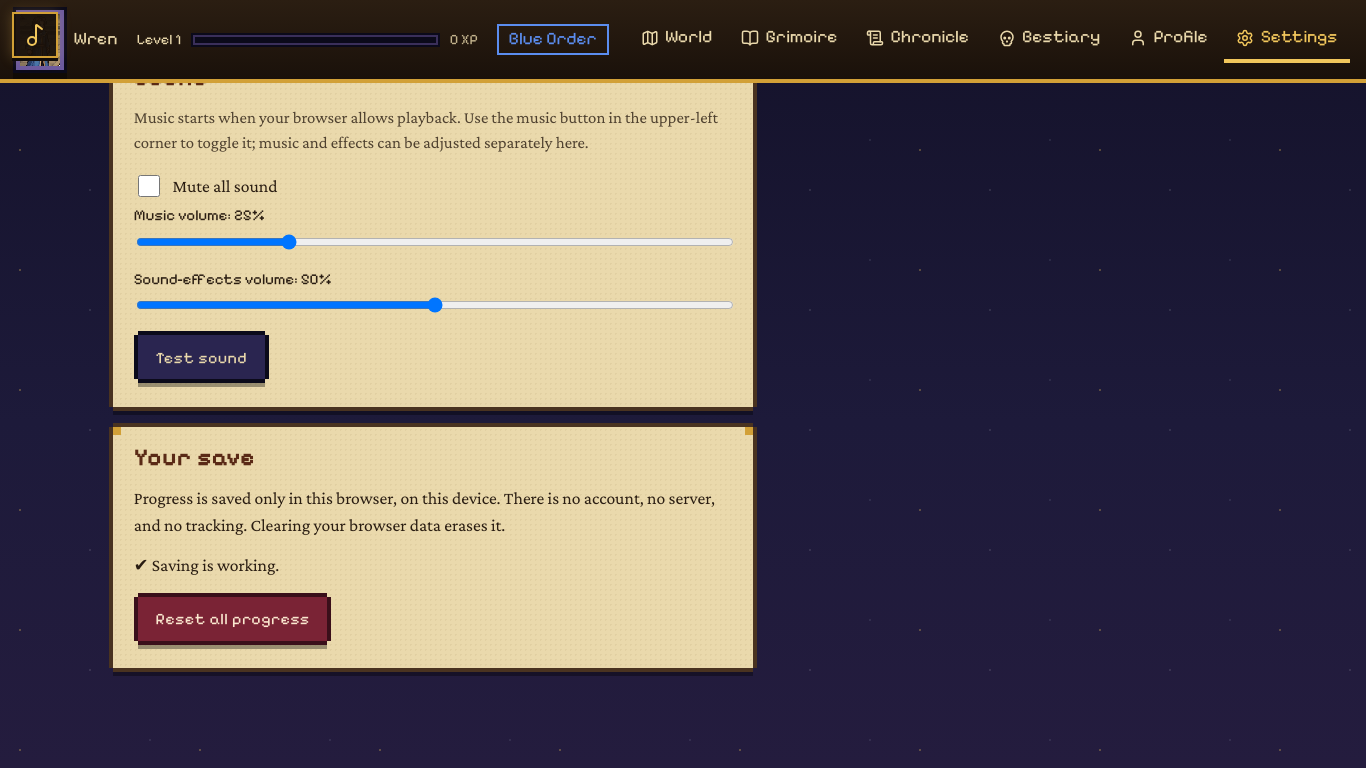
Scenario: reset flow › Escape closes the confirmation dialog
The image size is (1366, 768).
(page scrolled)
Click the button "Reset all progress" at (232, 618), box [138,596,327,640]
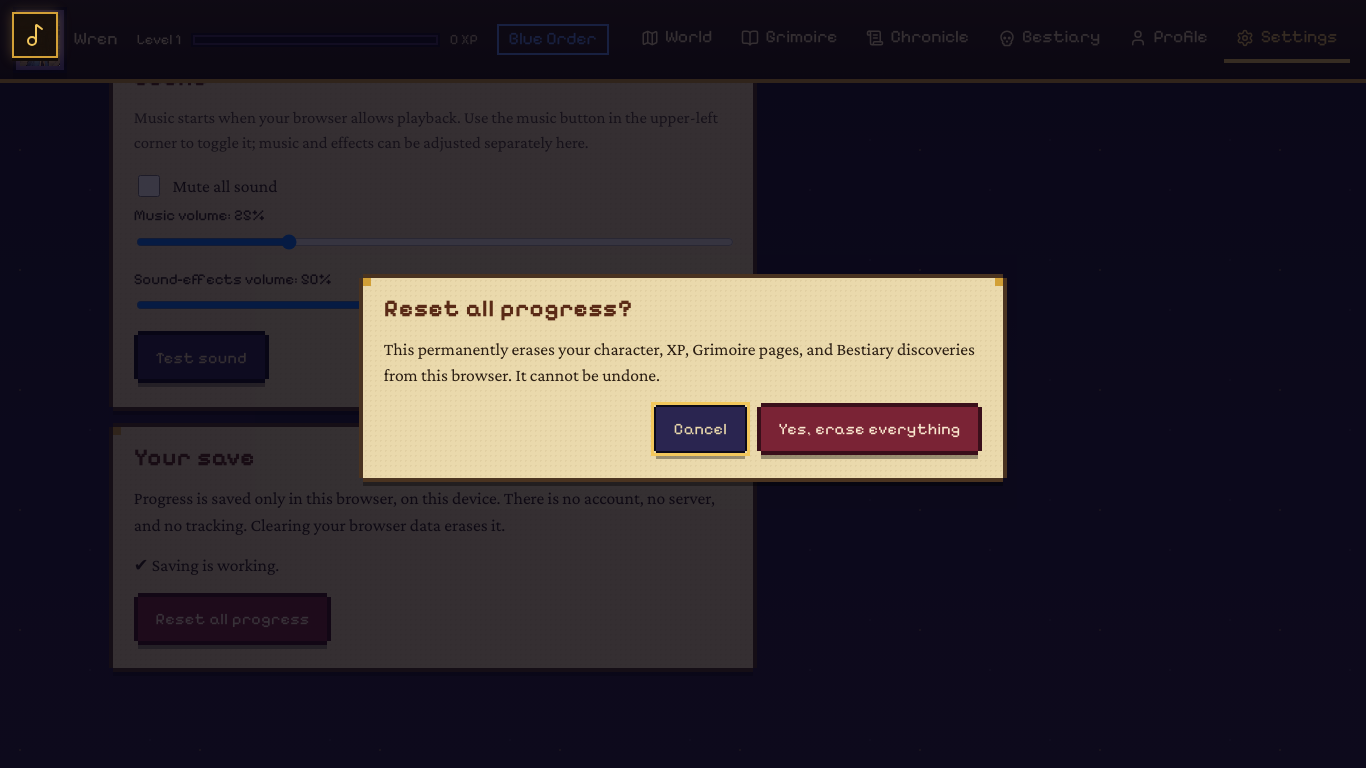
Press Escape
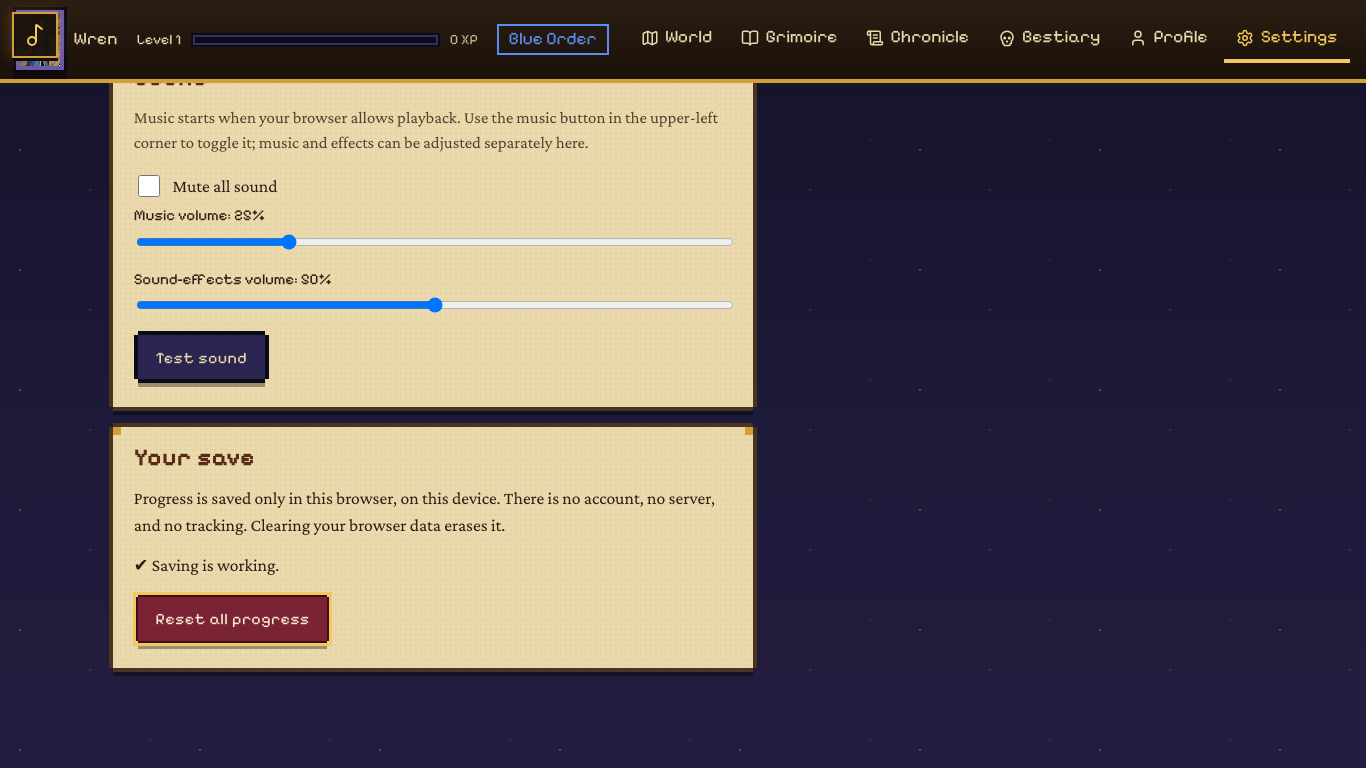
Check: the dialog is gone
